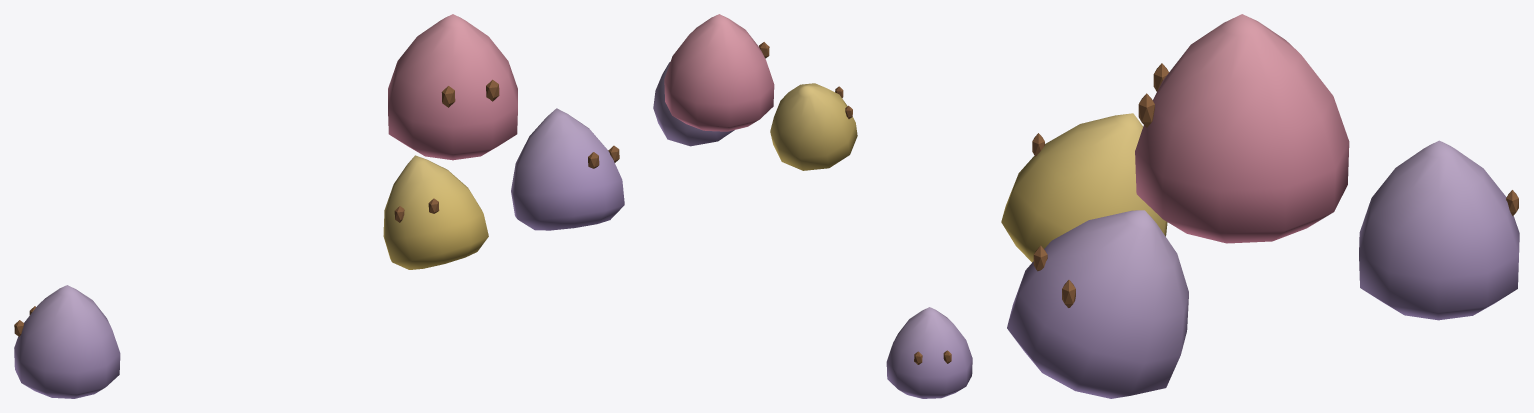
Rendered from slime_fountain_emerge.obj.
3 views of the same model, side by side, from view 1: azimuth 30°, elevation 25°; view 2: azimuth 150°, elevation 25°; view 3: azimuth 270°, elevation 25° (orthographic). The views are drawn at different scales.
Parts seen in each view (by area): view 1: slime_fountain_emerge; view 2: slime_fountain_emerge; view 3: slime_fountain_emerge.
Boxes of the visible parts, x1,y1,x2,y2 form: slime_fountain_emerge: [14, 14, 624, 398]; slime_fountain_emerge: [653, 14, 972, 398]; slime_fountain_emerge: [1001, 14, 1519, 398].
Bounding box in the file's own units: 19.44 × 12.8 × 11.35.
